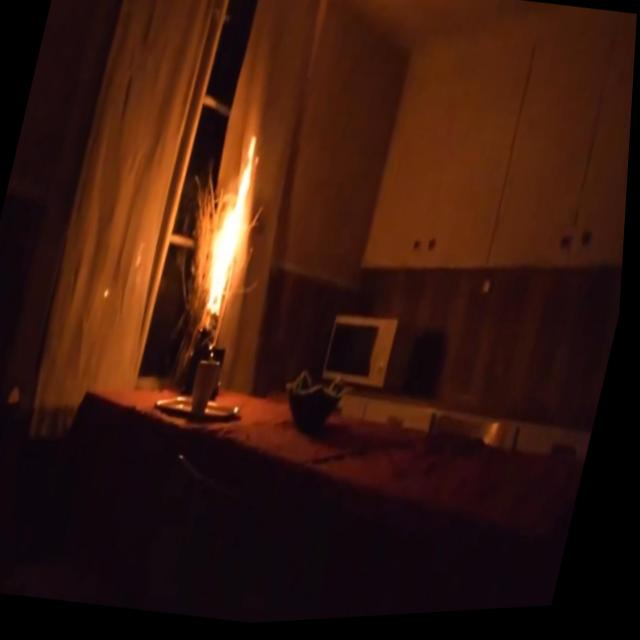fire: (193, 124, 284, 324)
